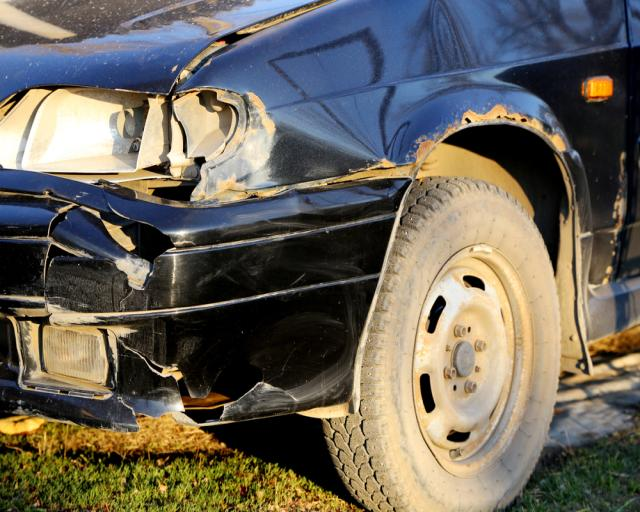crack: (118, 341, 265, 424), (99, 188, 178, 311), (43, 202, 88, 296)
dent: (204, 92, 394, 225)
lamp broken: (0, 85, 246, 208)
